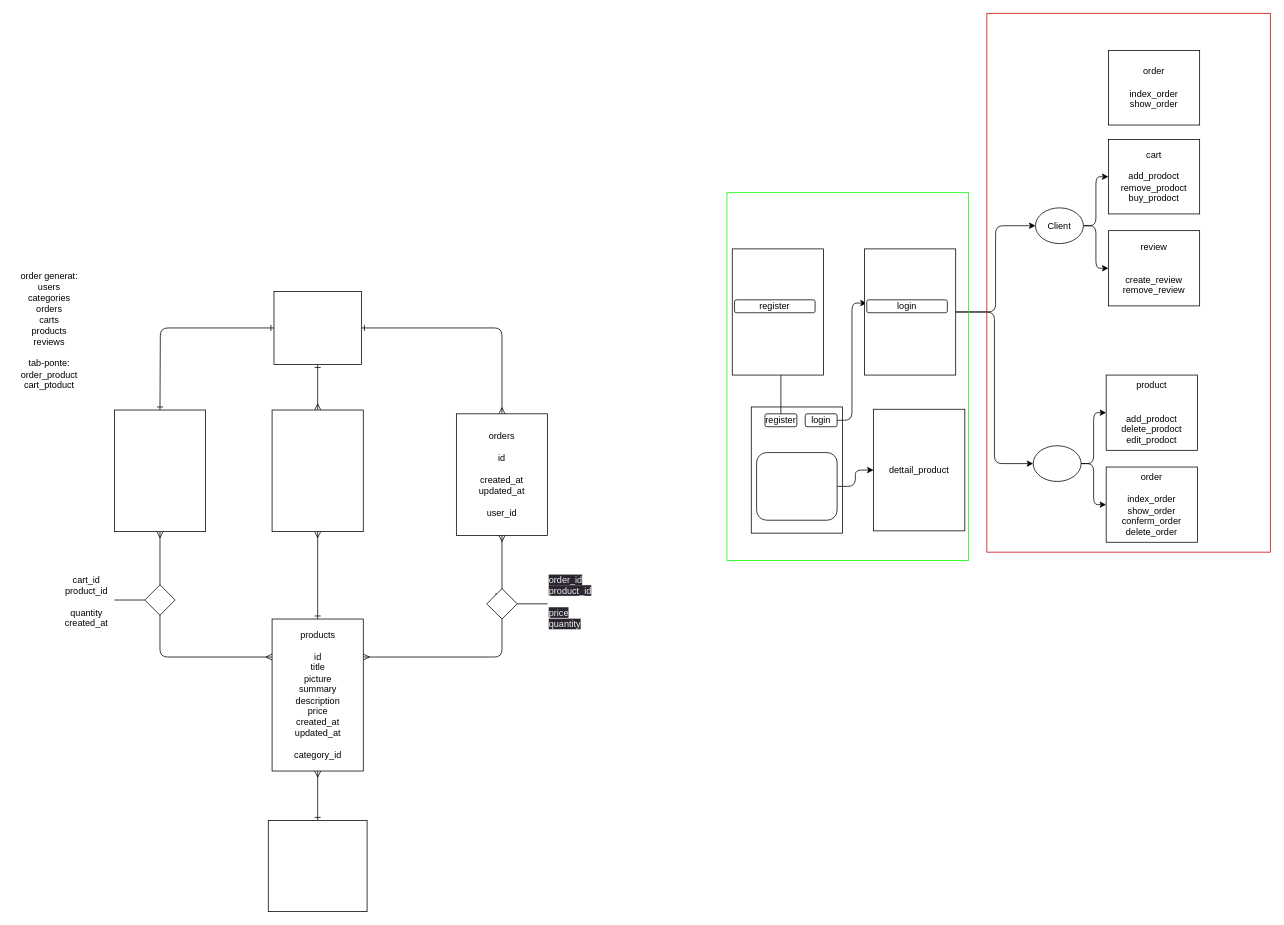
This 1284x925 diagram has some shape labels left out. Each missing label, with the centre of its shape:
"Admin" belongs at point (1056, 463).
"carts id status created_at updated_at user_id" belongs at point (160, 470).
"categories id name description created_at updated_at" belongs at point (317, 866).
"lista prodotti registrati" belongs at point (796, 486).
"reviews id rating comment created_at user_id product_id" belongs at point (317, 470).
"users surname phone role" belongs at point (317, 327).
